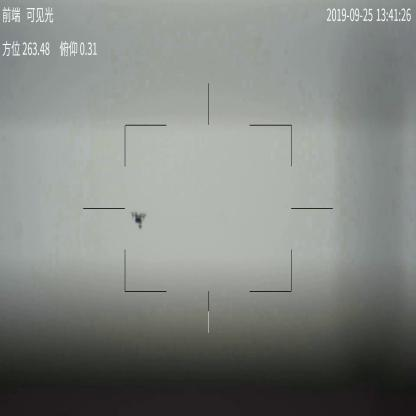uav: (129, 208, 146, 234)
